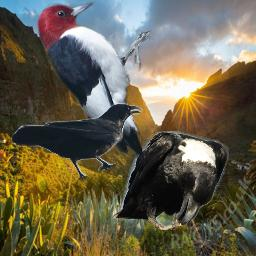Crow: (111, 129, 229, 233), (11, 103, 143, 181)
Woodpecker: (36, 1, 156, 158)
